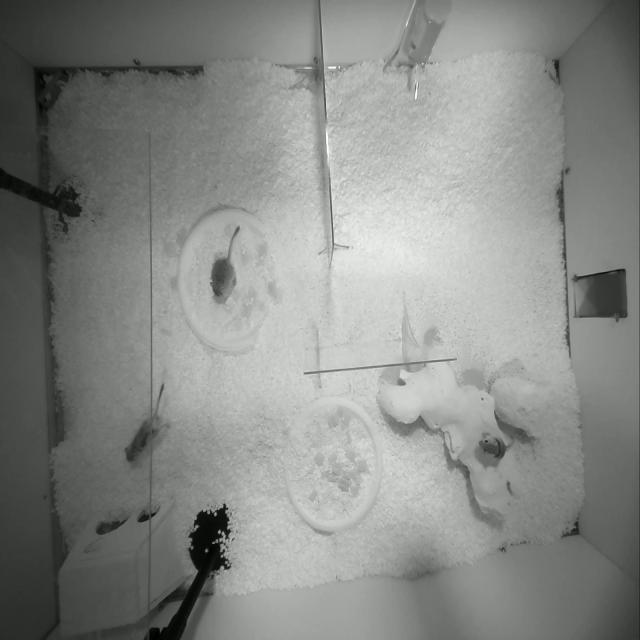pup_fluffy: (210, 226, 240, 301)
pup_h_stripe: (479, 433, 507, 459)
pup_v_stripe: (125, 383, 164, 461)
